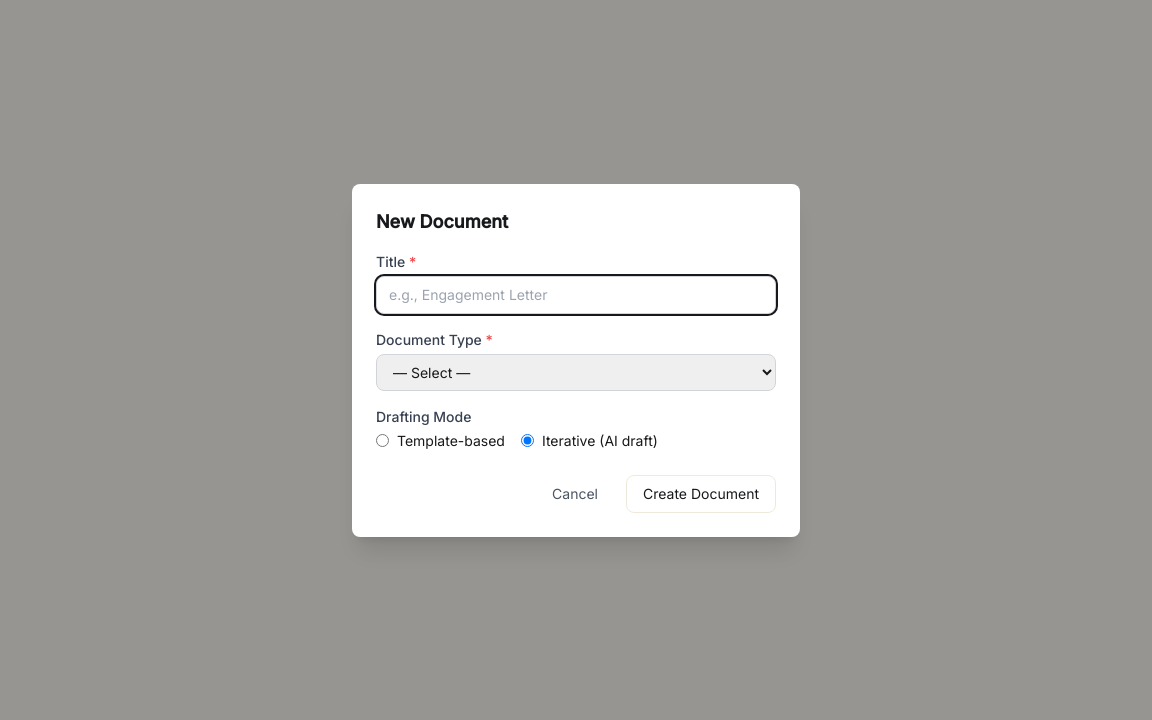
Scenario: TEMPLATE-PIPELINE-1 CreateDocumentForm — template picker + bind › template mode + a type with an ACTIVE template -> a picker select listing that template
This screenshot has width=1152, height=720.
Select "Engagement Letter" in the dropdown at (576, 372), box [376, 354, 776, 390]
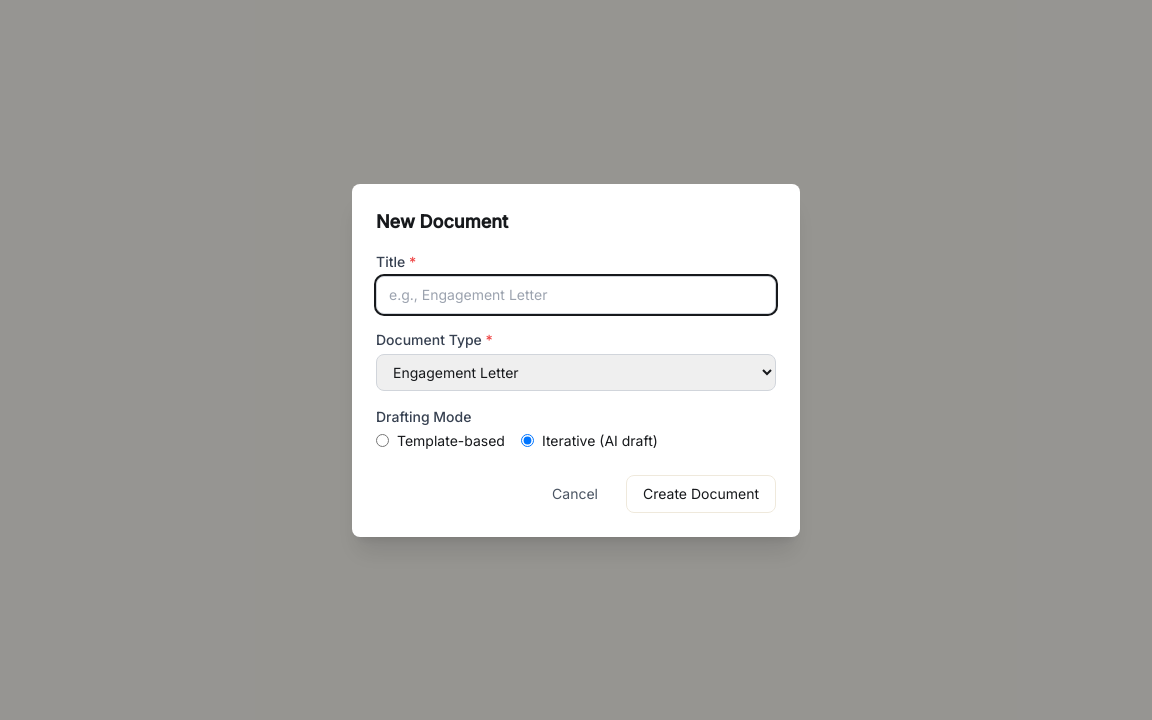
Click the radio button named "draftingMode" at (382, 440), box [376, 434, 389, 447]
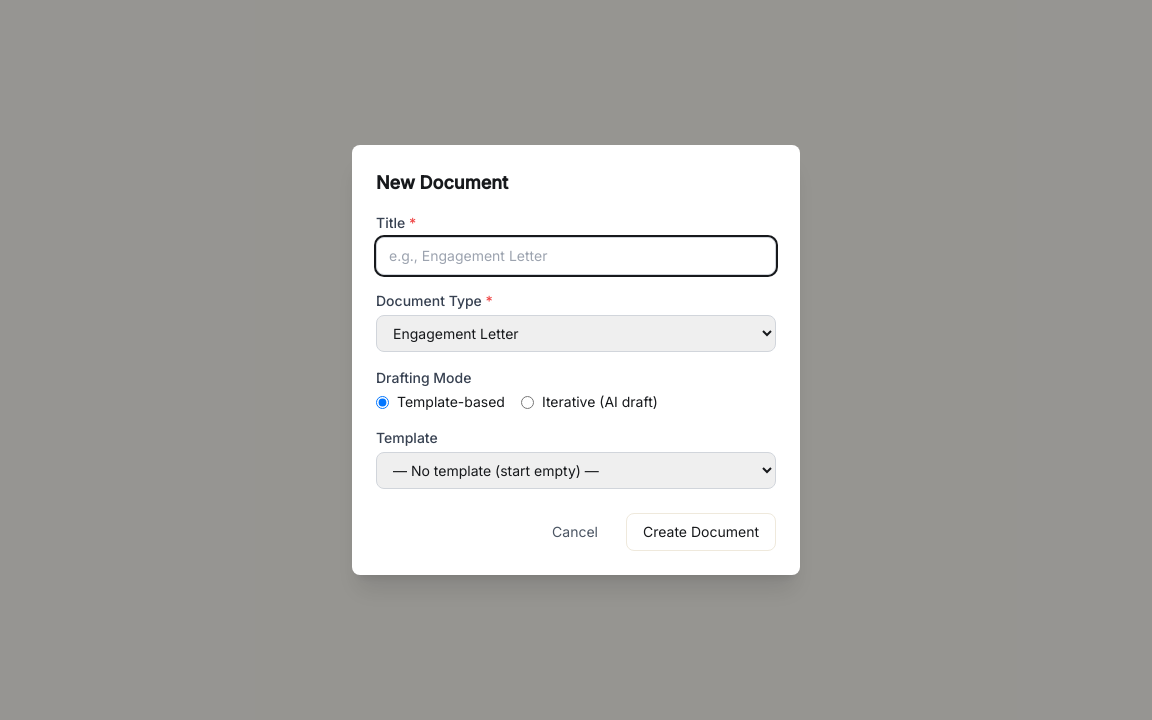
Expected: the dropdown with test id "template-picker-select" is shown, [376, 452, 776, 489]
